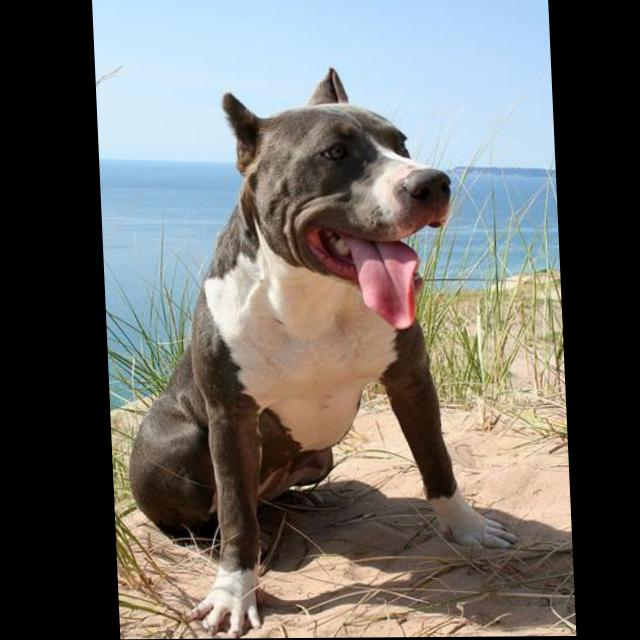amstaff: (109, 67, 519, 640)
